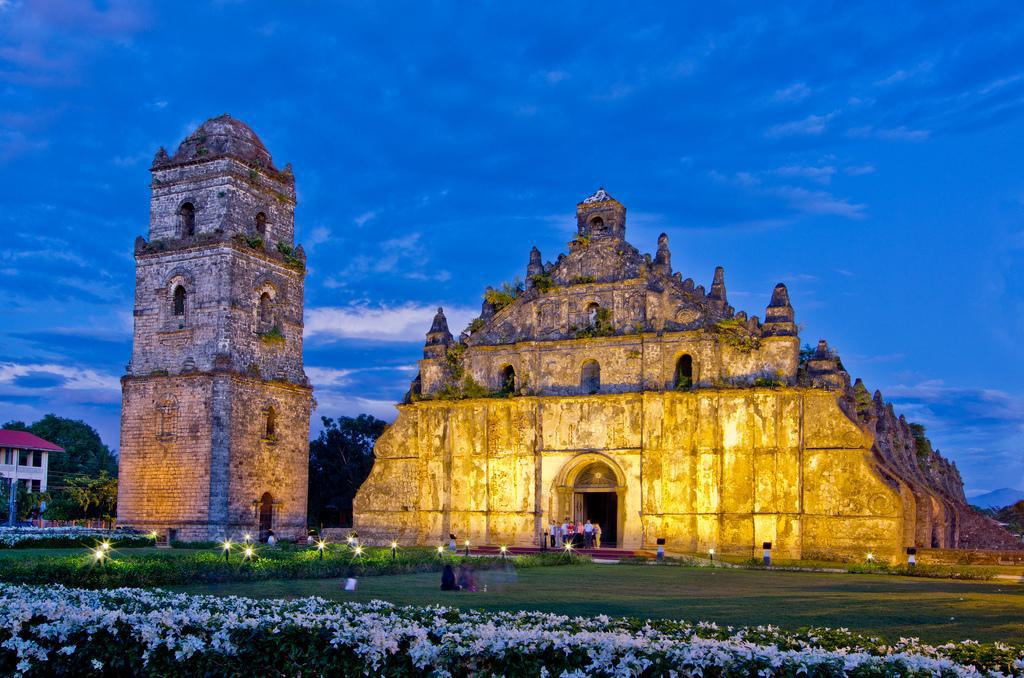paoay_church_paoay_ilocos_norte: (113, 98, 929, 580)
vegetation_damage: (435, 345, 482, 400), (705, 316, 760, 355), (479, 285, 532, 320), (585, 306, 620, 352), (250, 323, 292, 350), (276, 240, 305, 277), (232, 234, 263, 263)
